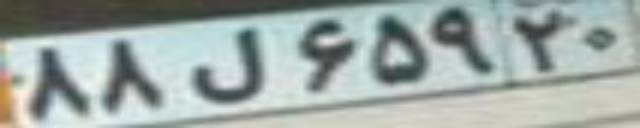0: (578, 25, 622, 55)
2: (511, 6, 563, 73)
5: (370, 14, 430, 85)
6: (294, 17, 356, 93)
8: (27, 46, 89, 121), (101, 38, 159, 115)
9: (429, 6, 494, 73)
lam: (186, 26, 262, 103)
